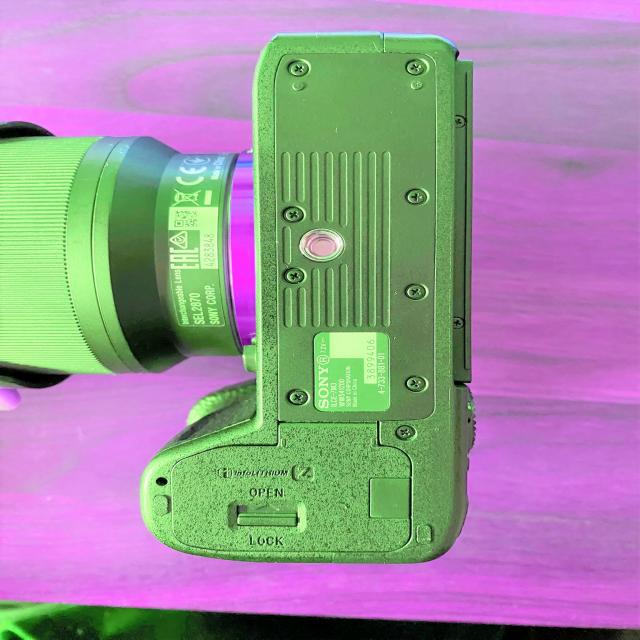PhillipsScrewHead: (405, 282, 427, 300), (406, 189, 427, 207), (288, 388, 309, 406), (284, 267, 306, 284), (284, 207, 304, 224), (406, 376, 427, 392), (397, 425, 418, 441), (290, 62, 308, 77), (407, 61, 425, 76), (452, 113, 467, 130), (452, 315, 466, 331)
